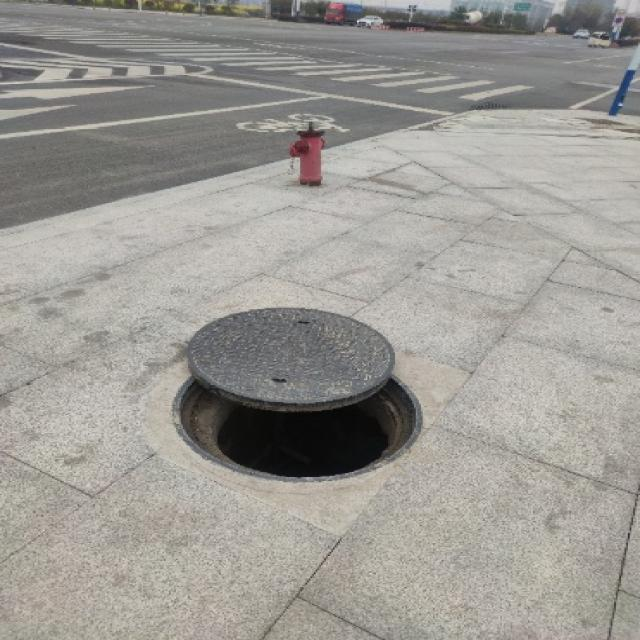Faulty: (152, 308, 440, 496)
